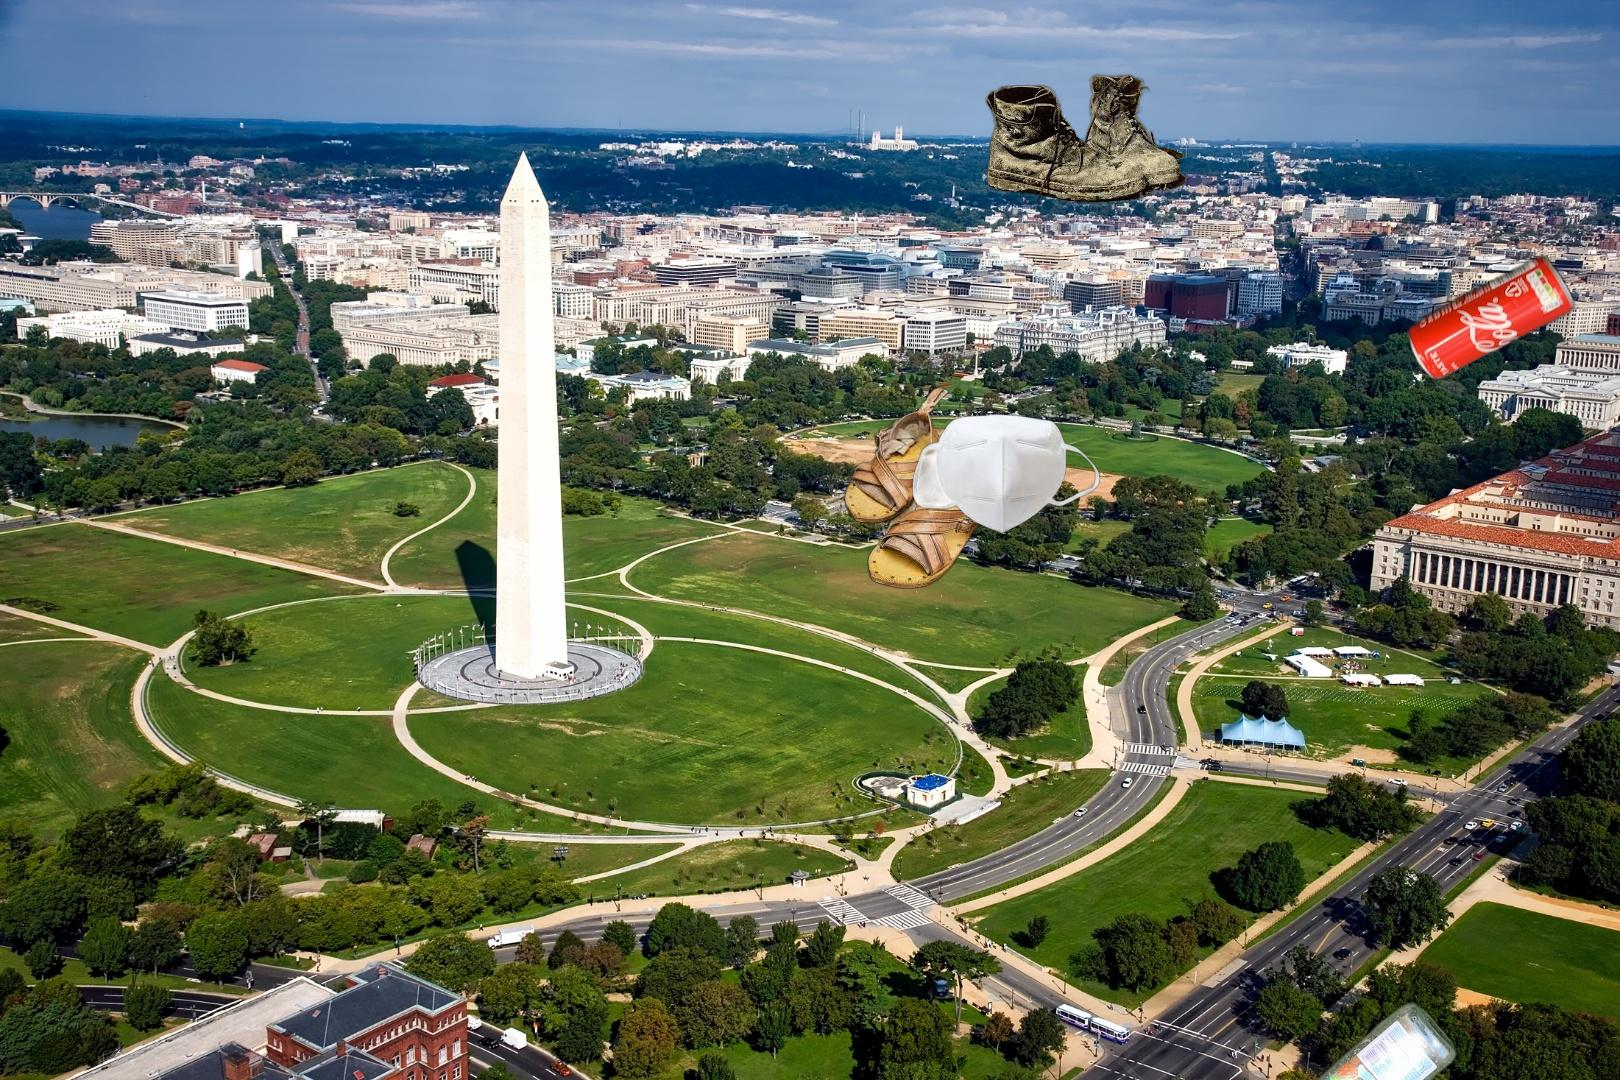metal-cans: (1402, 250, 1578, 387)
plastic-bottles: (1248, 996, 1463, 1080)
shoes: (942, 72, 1191, 231), (841, 384, 1015, 592)
trash: (910, 411, 1103, 535)
